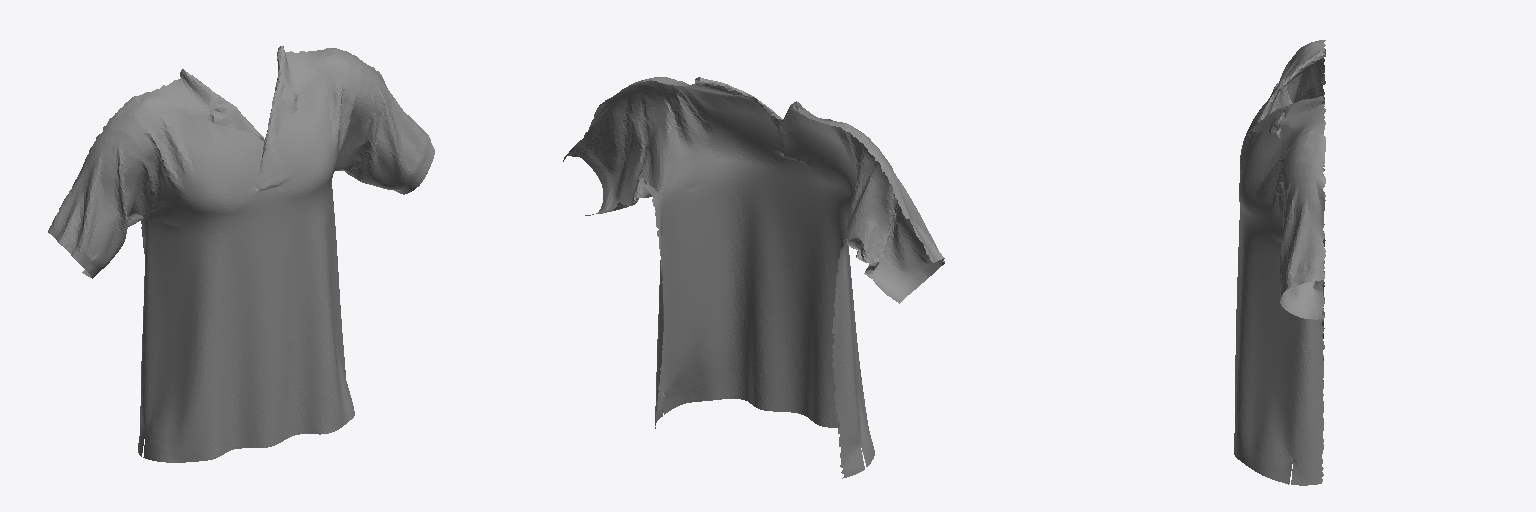
Rendered from shirt.obj.
The picture shows the model from 3 angles: view 1: azimuth 30°, elevation 25°; view 2: azimuth 150°, elevation 25°; view 3: azimuth 270°, elevation 25°; orthographic projection.
Visible parts, largest first — view 1: AM_102_031; view 2: AM_102_031; view 3: AM_102_031.
Boxes of the visible parts, box(x1,y1,x2,y2) form: AM_102_031: box(48, 46, 434, 462); AM_102_031: box(563, 77, 944, 478); AM_102_031: box(1234, 40, 1325, 485).
Size of the model in its own units: 31.43 by 29.5 by 6.75.